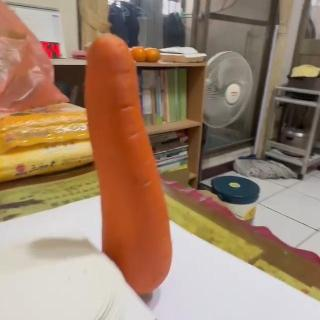carrot: (86, 32, 174, 299)
